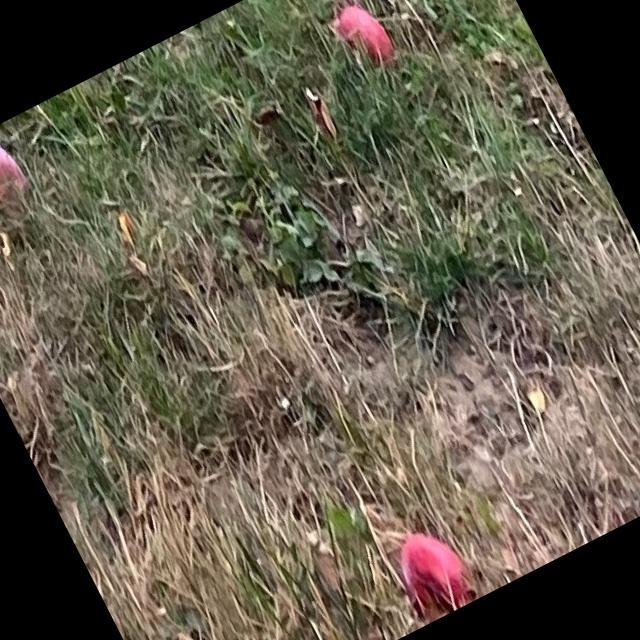100-_ripeness: (387, 520, 478, 624), (331, 0, 400, 79), (0, 136, 31, 210)
